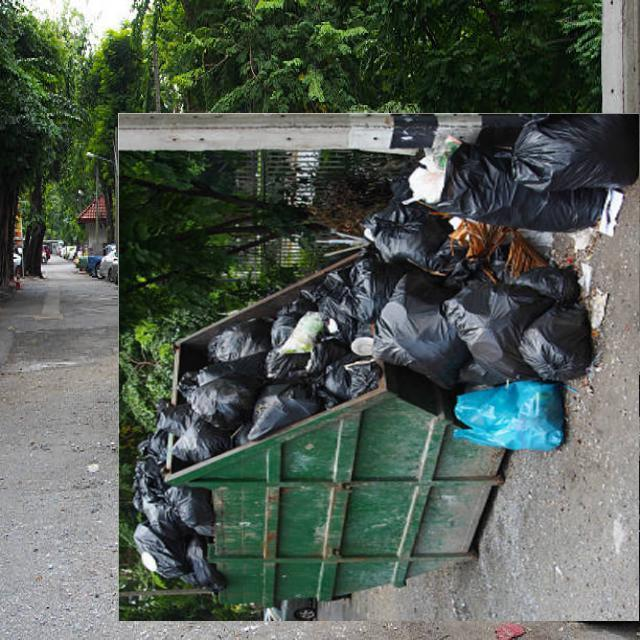Trashbag: (424, 118, 633, 225), (448, 278, 532, 382), (365, 205, 457, 284), (126, 524, 228, 592), (313, 256, 394, 338), (381, 300, 456, 379), (522, 314, 598, 384), (248, 383, 328, 440), (133, 484, 224, 534), (206, 314, 276, 378), (187, 376, 251, 429), (325, 354, 389, 404), (263, 343, 331, 387), (516, 264, 586, 306), (271, 291, 317, 347), (172, 419, 226, 462)
